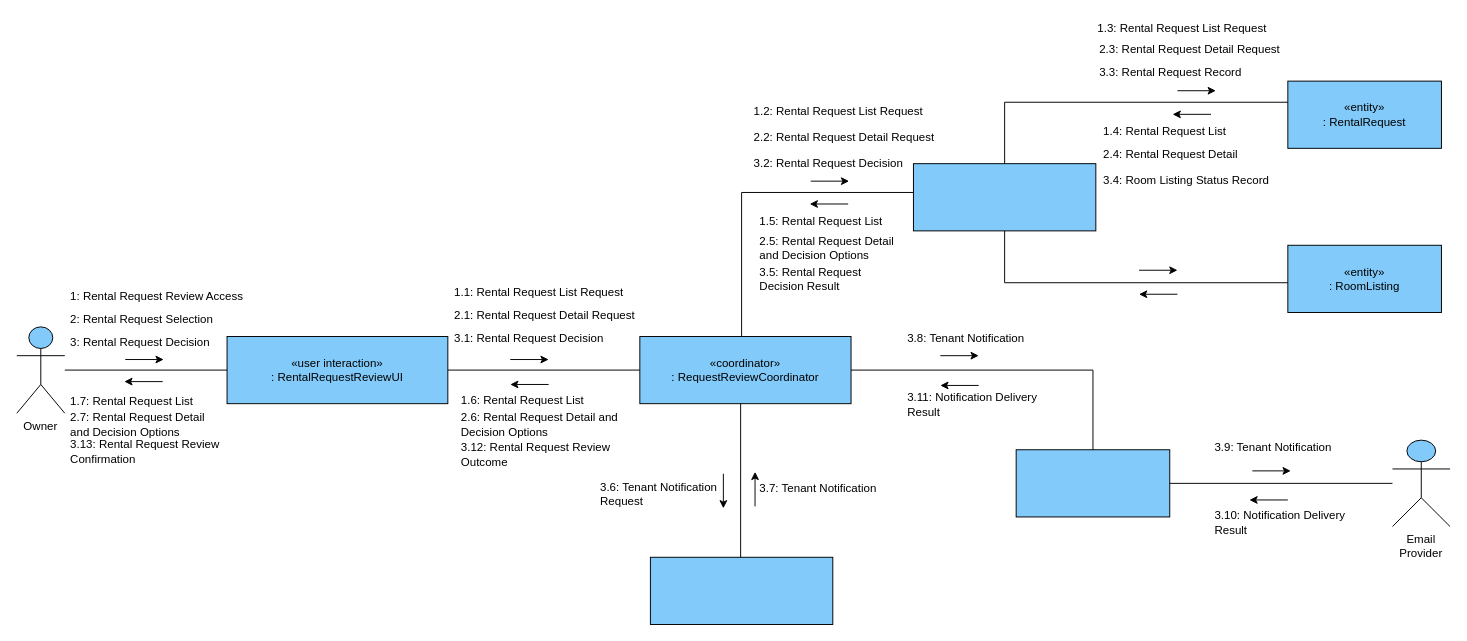
Some shapes in this 1467 by 641 pixel diagram are drawn without their labels. Here are the shapes that lost their labels. From the top down, the box of each, then its label:
(912, 163, 1096, 231): «business logic» : RentalRequestLogic
(1015, 449, 1170, 517): «proxy» : EmailProxy
(649, 556, 833, 624): «service» : NotificationService
